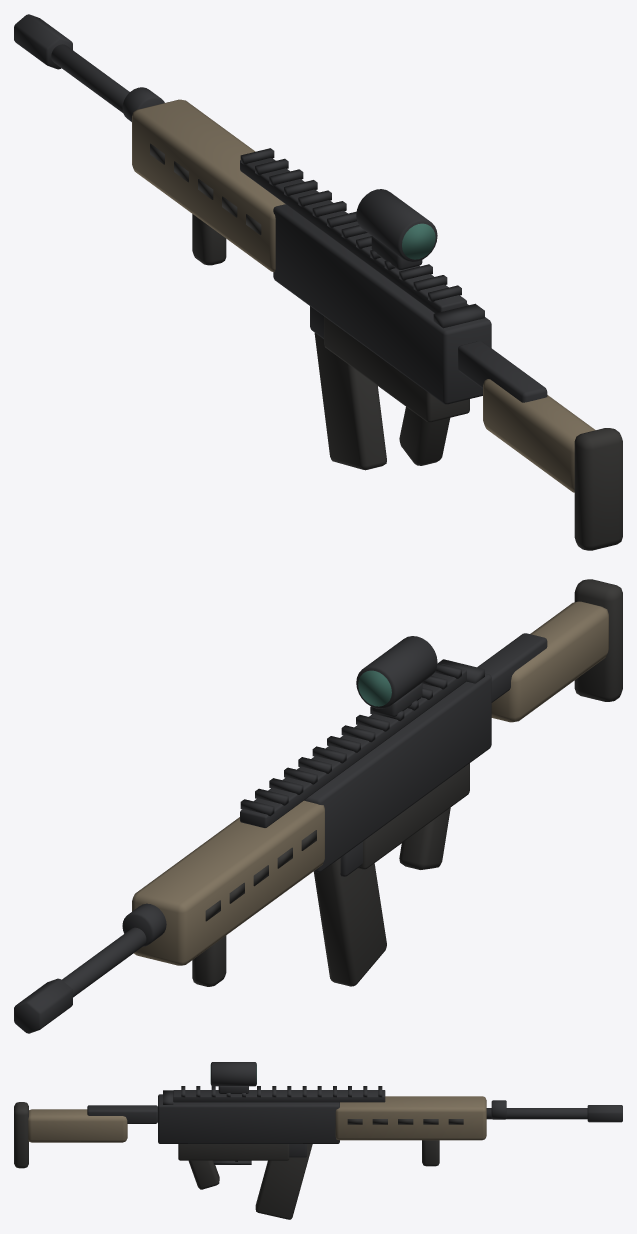
The model's file is rifle.glb.
The picture shows the model from 3 angles, top to bottom: view 1: azimuth 30°, elevation 25°; view 2: azimuth 150°, elevation 25°; view 3: azimuth 270°, elevation 25°; orthographic projection. The views are drawn at different scales.
Visible parts, largest first — view 1: Gunmetal, Polymer, FDE, Lens; view 2: Gunmetal, FDE, Polymer, Lens; view 3: Gunmetal, FDE, Polymer.
Boxes of the visible parts, x1,y1,x2,y2 form: Gunmetal: (14, 14, 547, 404); Polymer: (150, 143, 622, 550); FDE: (132, 99, 595, 492); Lens: (402, 223, 435, 259); Gunmetal: (14, 633, 547, 1033); FDE: (132, 601, 608, 965); Polymer: (192, 579, 622, 986); Lens: (358, 670, 391, 706); Gunmetal: (87, 1062, 622, 1164); FDE: (28, 1096, 486, 1142); Polymer: (14, 1102, 463, 1219).
Bounding box in the file's own units: 0.068 × 0.3369 × 1.2.
